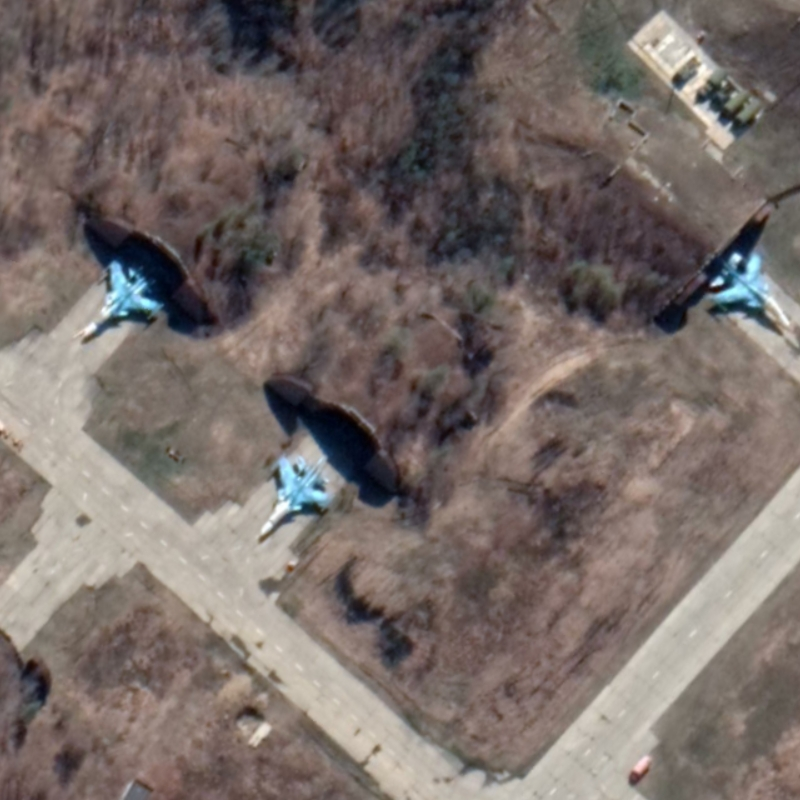A19: (80, 253, 167, 339), (705, 247, 794, 330), (257, 450, 338, 540)
